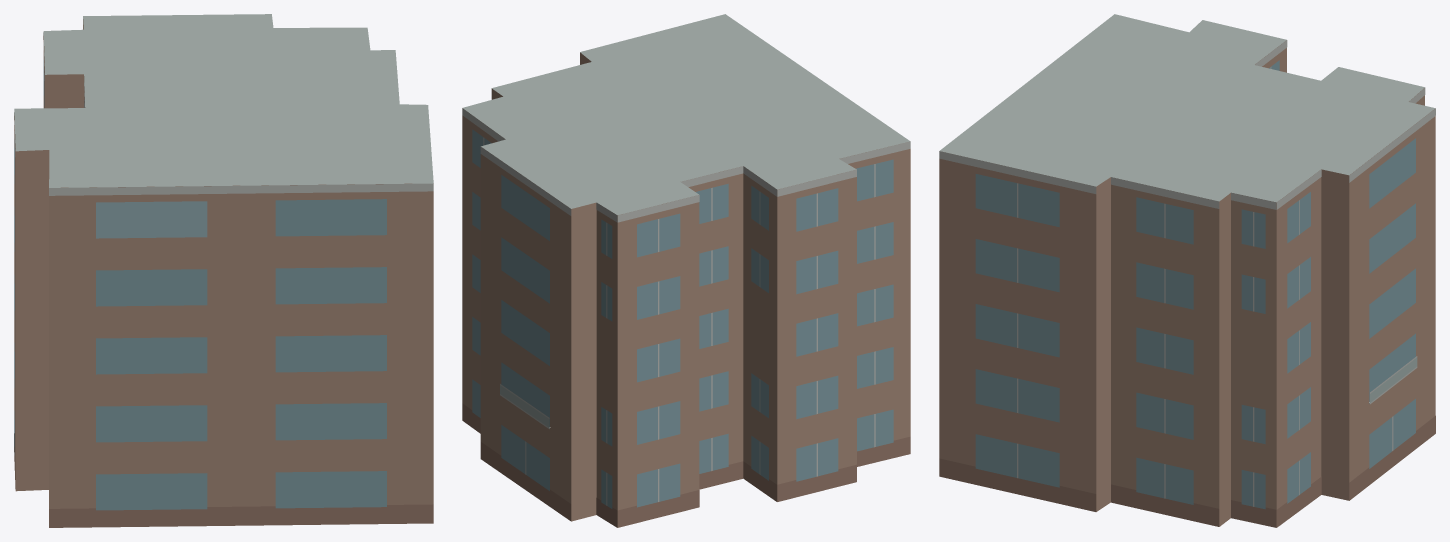
Rendered from survey-upis-32669372.glb.
3 renders of one model, left to right at view 1: azimuth 30°, elevation 25°; view 2: azimuth 150°, elevation 25°; view 3: azimuth 270°, elevation 25°, orthographic. The views are drawn at different scales.
Parts seen in each view (by area): view 1: survey-upis-32669372.tmp; view 2: survey-upis-32669372.tmp; view 3: survey-upis-32669372.tmp.
Part boxes in pixels (bbox=[...]): survey-upis-32669372.tmp: bbox=[14, 14, 433, 527]; survey-upis-32669372.tmp: bbox=[462, 14, 910, 527]; survey-upis-32669372.tmp: bbox=[939, 14, 1435, 527].
Size of the model in its own units: 12.92 by 10.4 by 14.38.
